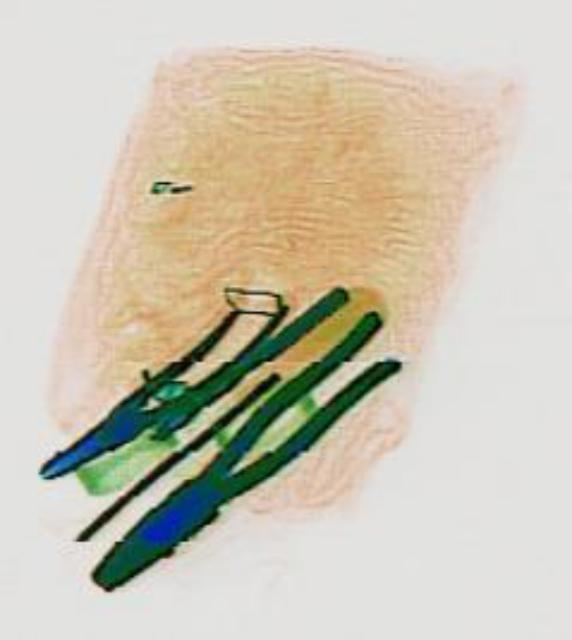Pliers: (72, 302, 410, 610), (20, 247, 350, 497)
